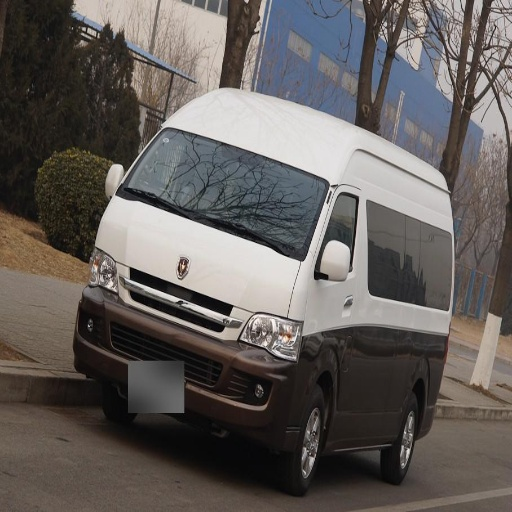front_bumper: (78, 262, 309, 451)
front_glass: (121, 128, 327, 260)
front_left_door: (315, 185, 379, 416)
trunk: (372, 327, 442, 403)
